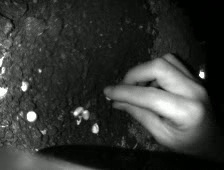corn: (25, 108, 40, 125), (72, 105, 86, 117), (19, 79, 30, 94), (89, 121, 100, 135), (80, 108, 90, 122), (75, 113, 83, 127), (103, 95, 113, 102)
